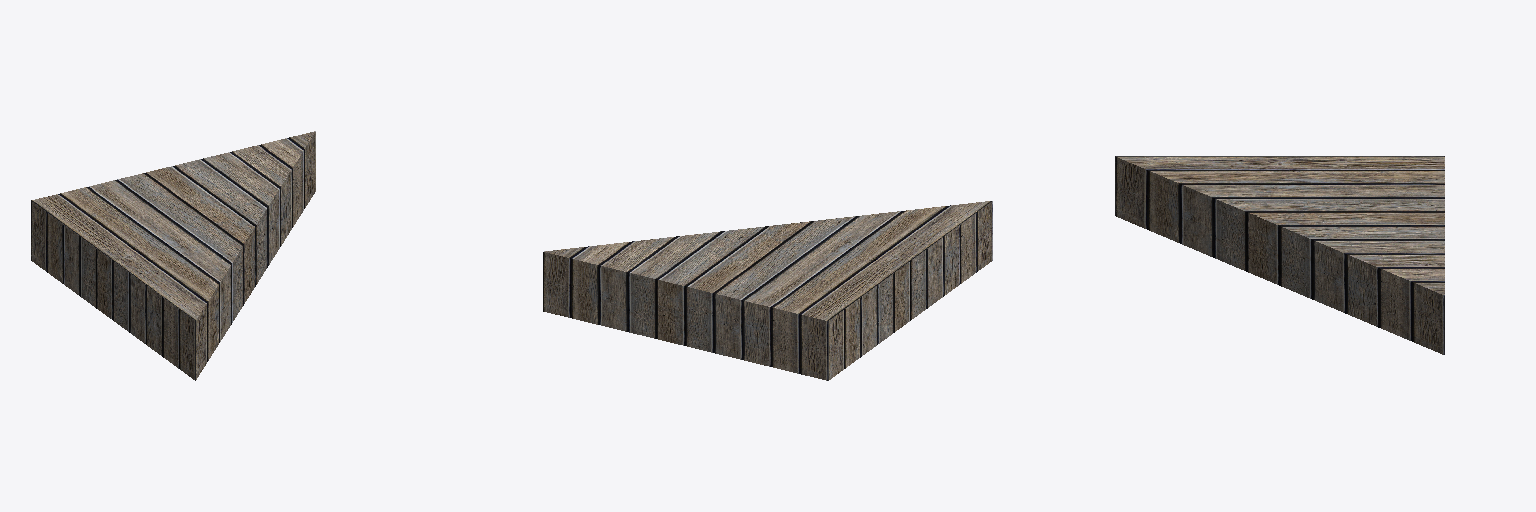
3 views of the same model, side by side, from view 1: azimuth 30°, elevation 25°; view 2: azimuth 150°, elevation 25°; view 3: azimuth 270°, elevation 25° (orthographic).
Visible parts, largest first — view 1: Box02; view 2: Box02; view 3: Box02.
Boxes of the visible parts, x1,y1,x2,y2 form: Box02: [31, 131, 315, 380]; Box02: [543, 201, 992, 380]; Box02: [1115, 156, 1444, 354].
Bounding box in the file's own units: 0.5 × 0.1 × 0.5.
Materials: 1 (1 with a texture image).